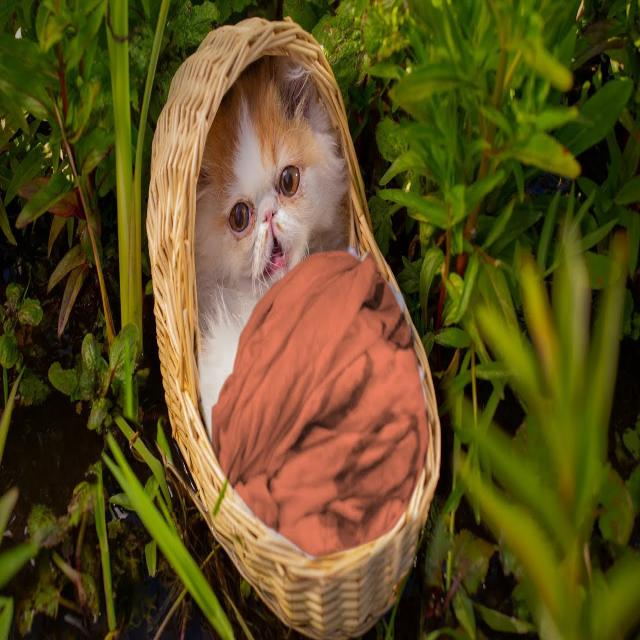cat: (202, 113, 314, 328)
